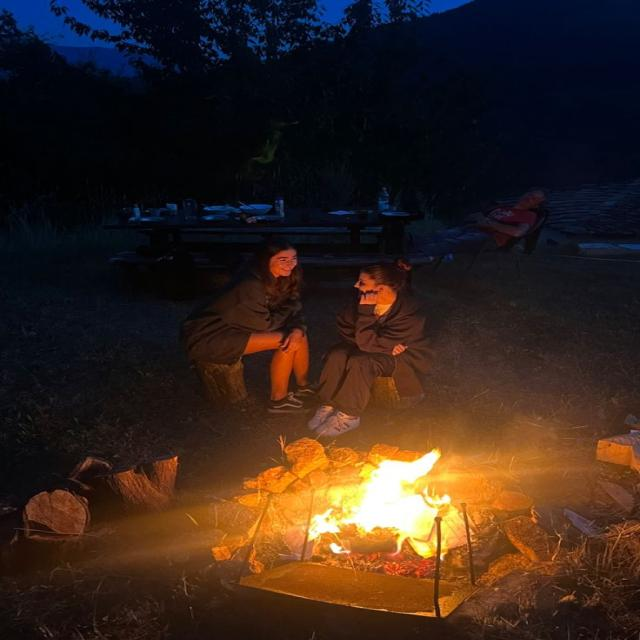fire: (349, 447, 448, 539)
